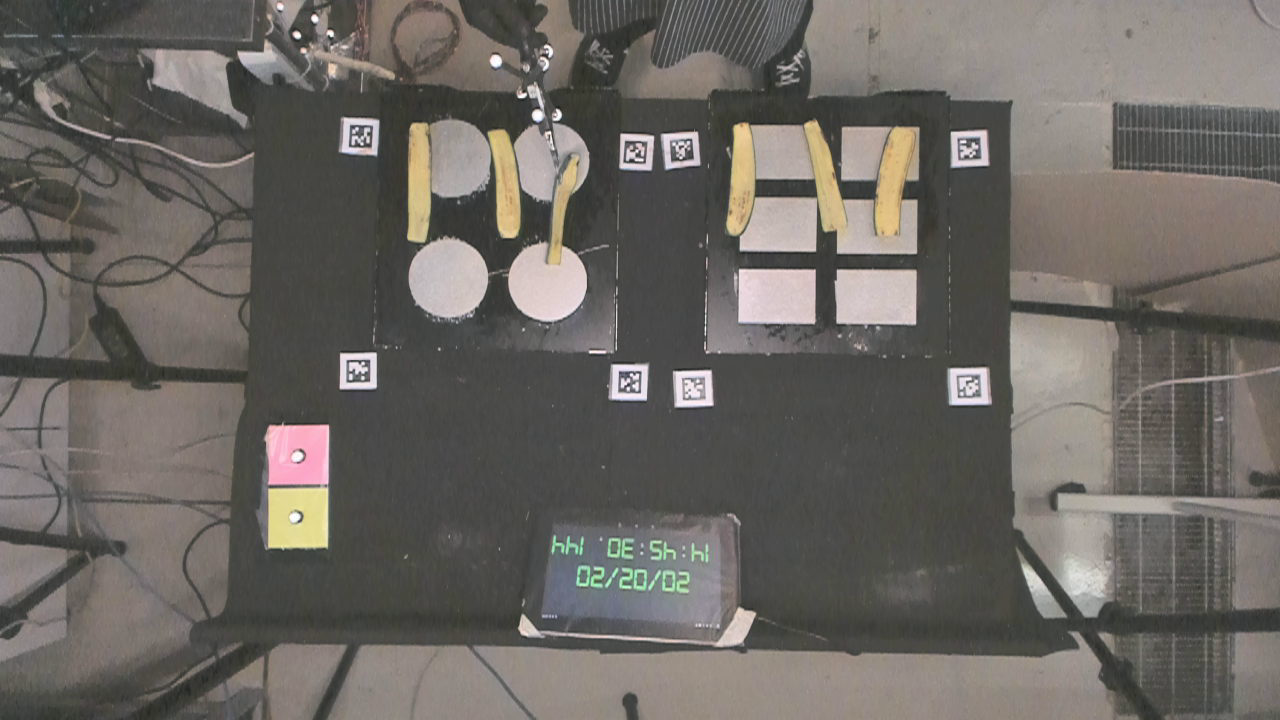marker: (268, 424, 329, 485)
zucchini: (802, 113, 850, 238), (486, 122, 528, 245), (875, 124, 913, 242), (405, 115, 433, 246), (550, 152, 581, 270), (728, 126, 758, 239)
